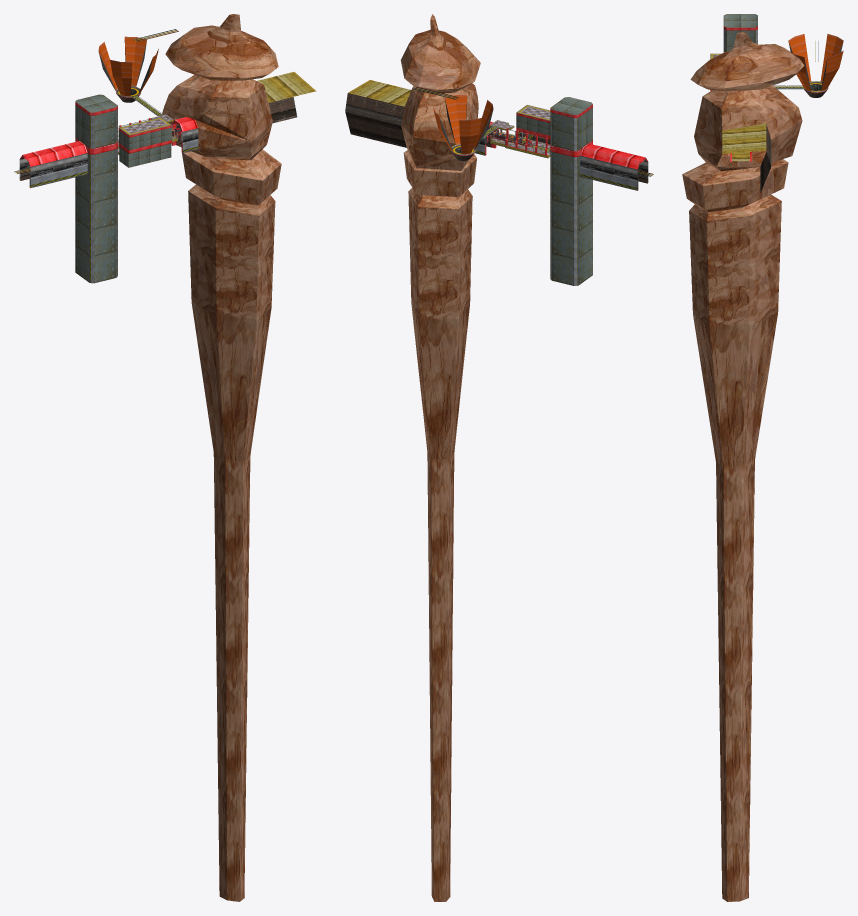
Rendered from railcanyon14.obj.
3 views of the same model, side by side, from view 1: azimuth 30°, elevation 25°; view 2: azimuth 150°, elevation 25°; view 3: azimuth 270°, elevation 25° (orthographic).
Parts seen in each view (by area): view 1: Object_2; view 2: Object_2; view 3: Object_2.
Boxes of the visible parts, left/top/right/bottom form: Object_2: left=14, top=14, right=316, bottom=901; Object_2: left=345, top=14, right=653, bottom=901; Object_2: left=682, top=14, right=843, bottom=901.
Size of the model in its own units: 3721 by 10737 by 1809.
Materials: 51 (50 with a texture image).
